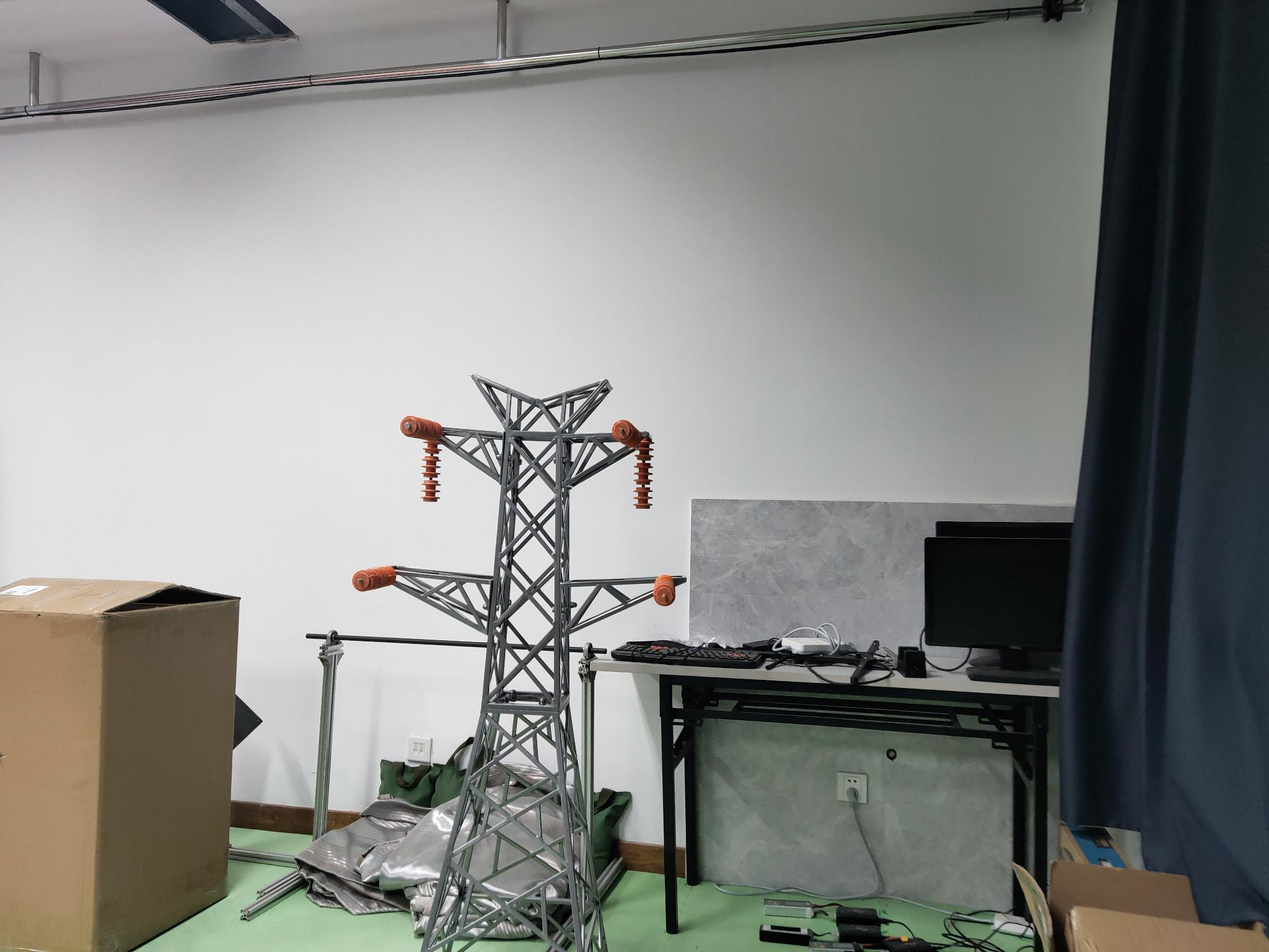tower: (389, 374, 677, 952)
